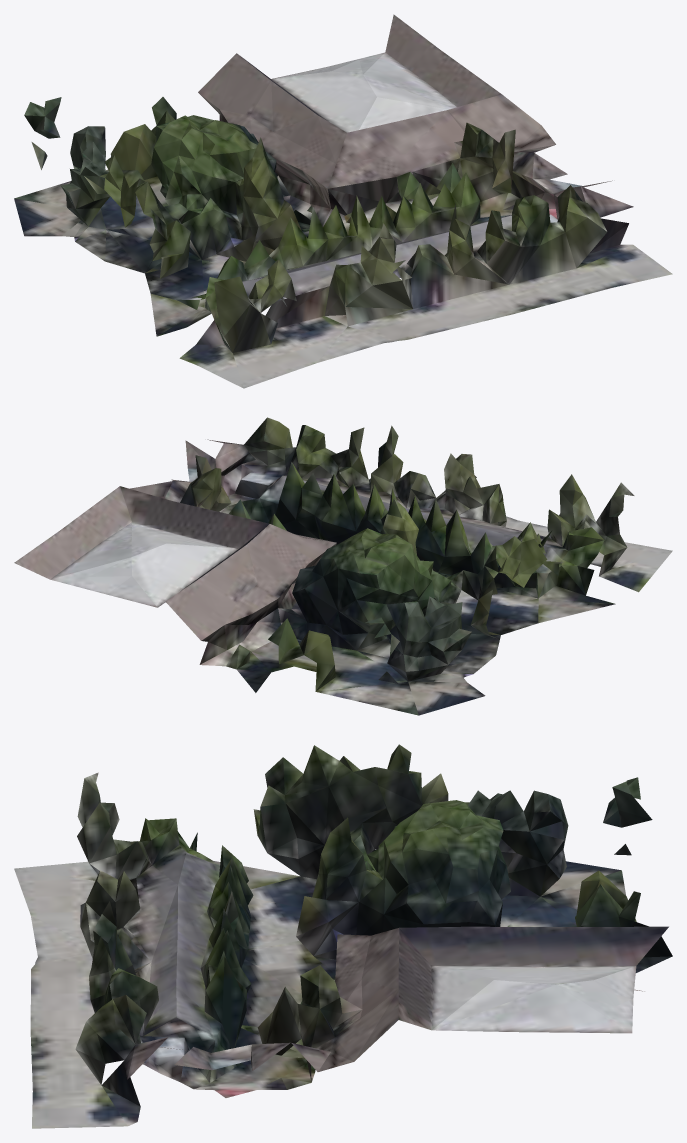
Rendered from Tile_+004_+001_L17_00.glb.
The picture shows the model from 3 angles, top to bottom: view 1: azimuth 30°, elevation 25°; view 2: azimuth 150°, elevation 25°; view 3: azimuth 270°, elevation 25°; orthographic projection. The views are drawn at different scales.
Bounding box in the file's own units: 60.27 × 15.09 × 61.57.
1 material, 1 textured.
